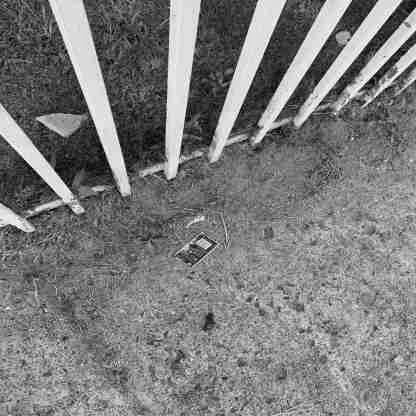plastic: (178, 230, 220, 267)
